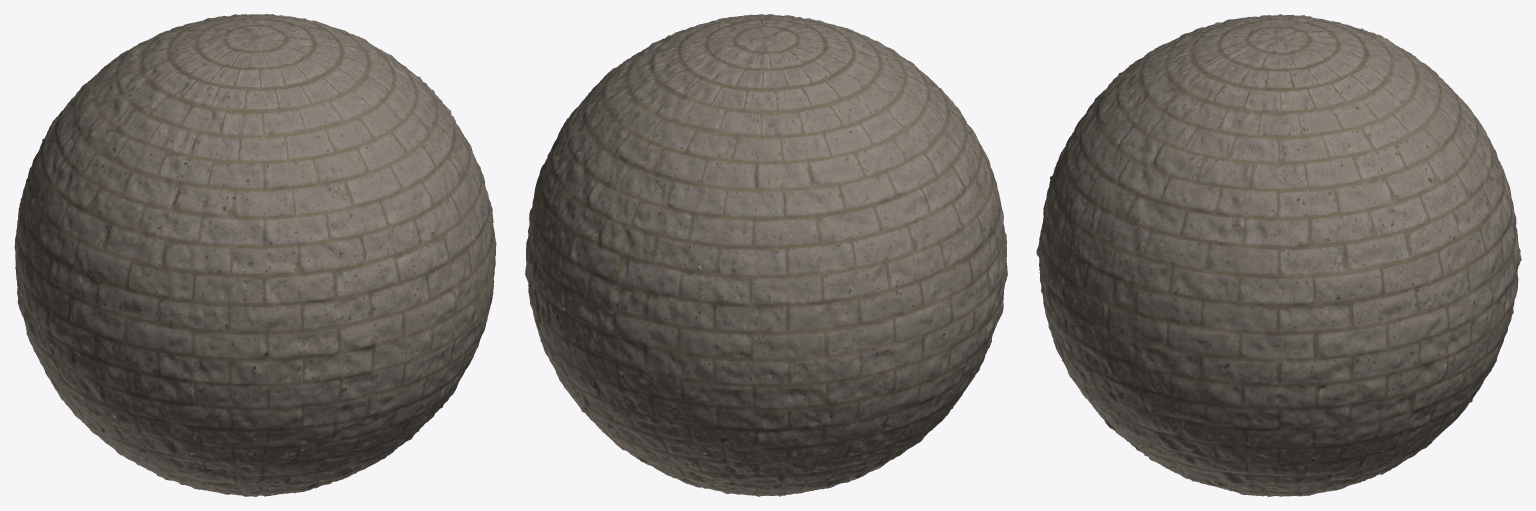
Rendered from brick_wall_13_2k.gltf.
The picture shows the model from 3 angles, left to right: view 1: azimuth 30°, elevation 25°; view 2: azimuth 150°, elevation 25°; view 3: azimuth 270°, elevation 25°; orthographic projection.
Parts seen in each view (by area): view 1: sphere_gltf; view 2: sphere_gltf; view 3: sphere_gltf.
Boxes of the visible parts, x1,y1,x2,y2 form: sphere_gltf: [14, 14, 496, 496]; sphere_gltf: [525, 14, 1007, 496]; sphere_gltf: [1036, 14, 1521, 496].
Bounding box in the file's own units: 2.02 × 2.04 × 2.04.
Materials: 1 (1 with a texture image).
